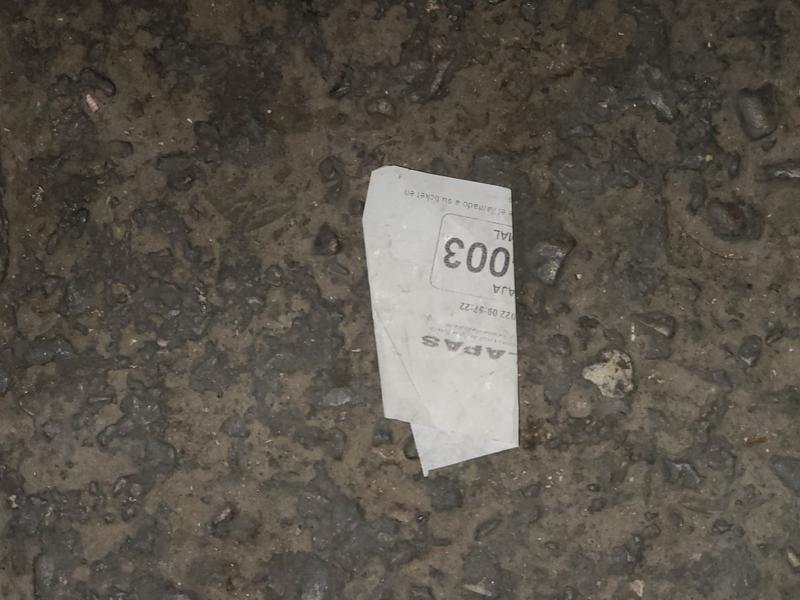papel: (360, 166, 519, 476)
